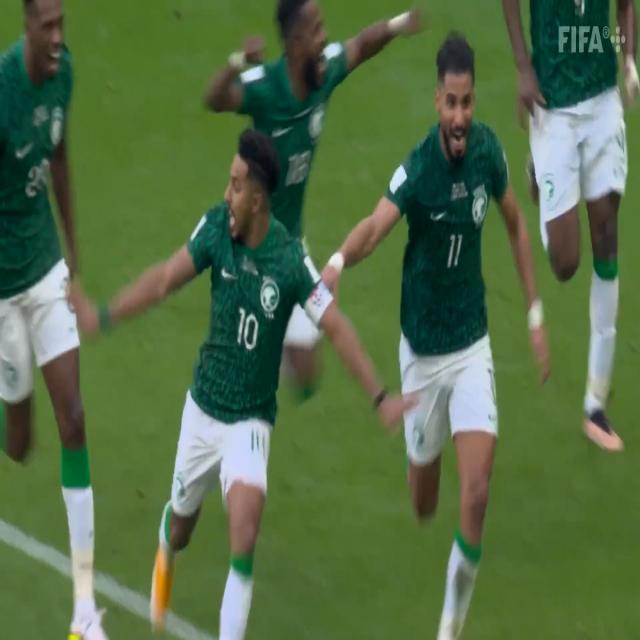player: (154, 127, 334, 640), (199, 0, 421, 395), (392, 31, 520, 640), (0, 0, 114, 640), (504, 0, 640, 472)
